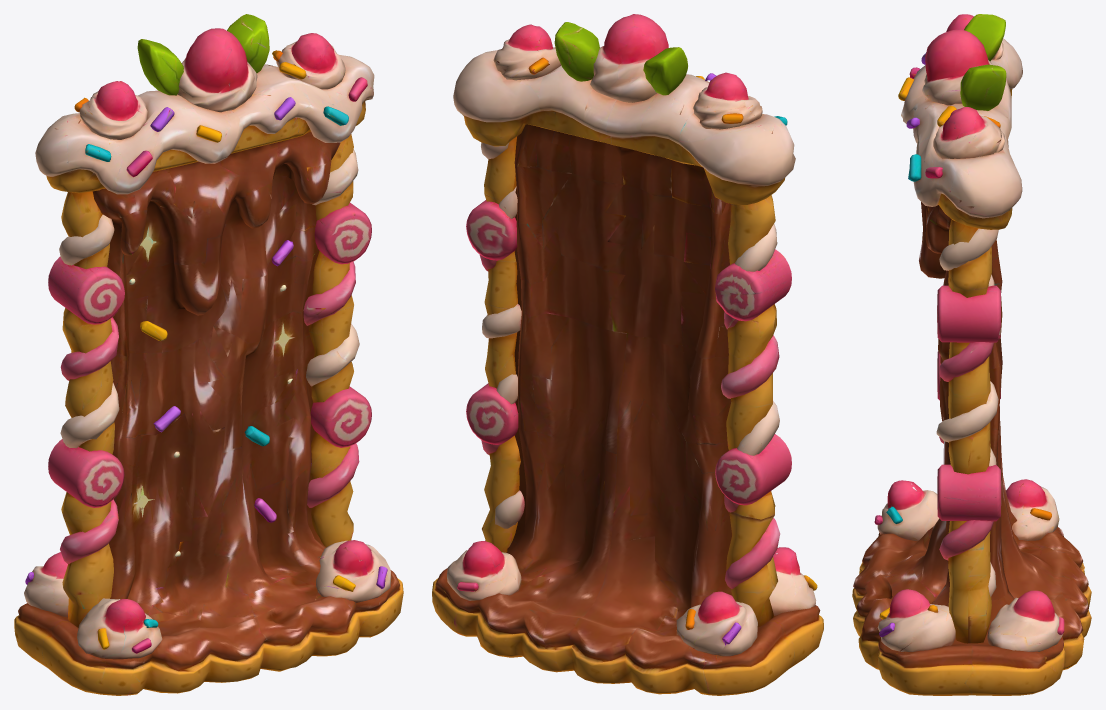
Rendered from choco_waterfall_wall.glb.
The picture shows the model from 3 angles, left to right: view 1: azimuth 30°, elevation 25°; view 2: azimuth 150°, elevation 25°; view 3: azimuth 270°, elevation 25°; orthographic projection. The views are drawn at different scales.
Size of what is drawn, in the model's own units: 0.5777 by 1 by 0.3658.
Materials: 1 (1 with a texture image).
